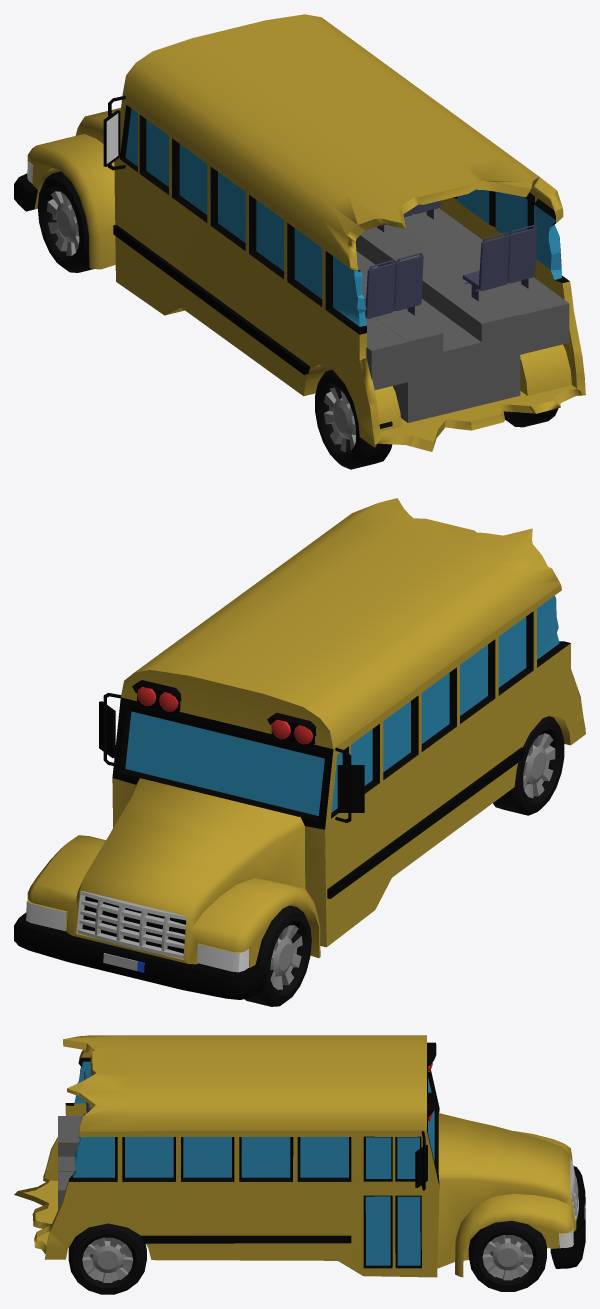
Rendered from buscrash.fbx.
3 views of the same model, one above another, from view 1: azimuth 30°, elevation 25°; view 2: azimuth 150°, elevation 25°; view 3: azimuth 270°, elevation 25° (orthographic). The views are drawn at different scales.
Visible parts, largest first — view 1: bus.001, arka_teker, on_teker; view 2: bus.001, on_teker, arka_teker; view 3: bus.001, on_teker, arka_teker.
Part boxes in pixels (<box>): bus.001: <box>14,14,585,451</box>; arka_teker: <box>315,369,558,469</box>; on_teker: <box>37,171,93,272</box>; bus.001: <box>14,498,585,999</box>; on_teker: <box>244,905,311,1006</box>; arka_teker: <box>493,716,564,815</box>; bus.001: <box>14,1035,585,1277</box>; on_teker: <box>468,1221,546,1291</box>; arka_teker: <box>68,1223,146,1294</box>.
Size of the model in its own units: 1413 by 1316 by 3468.
